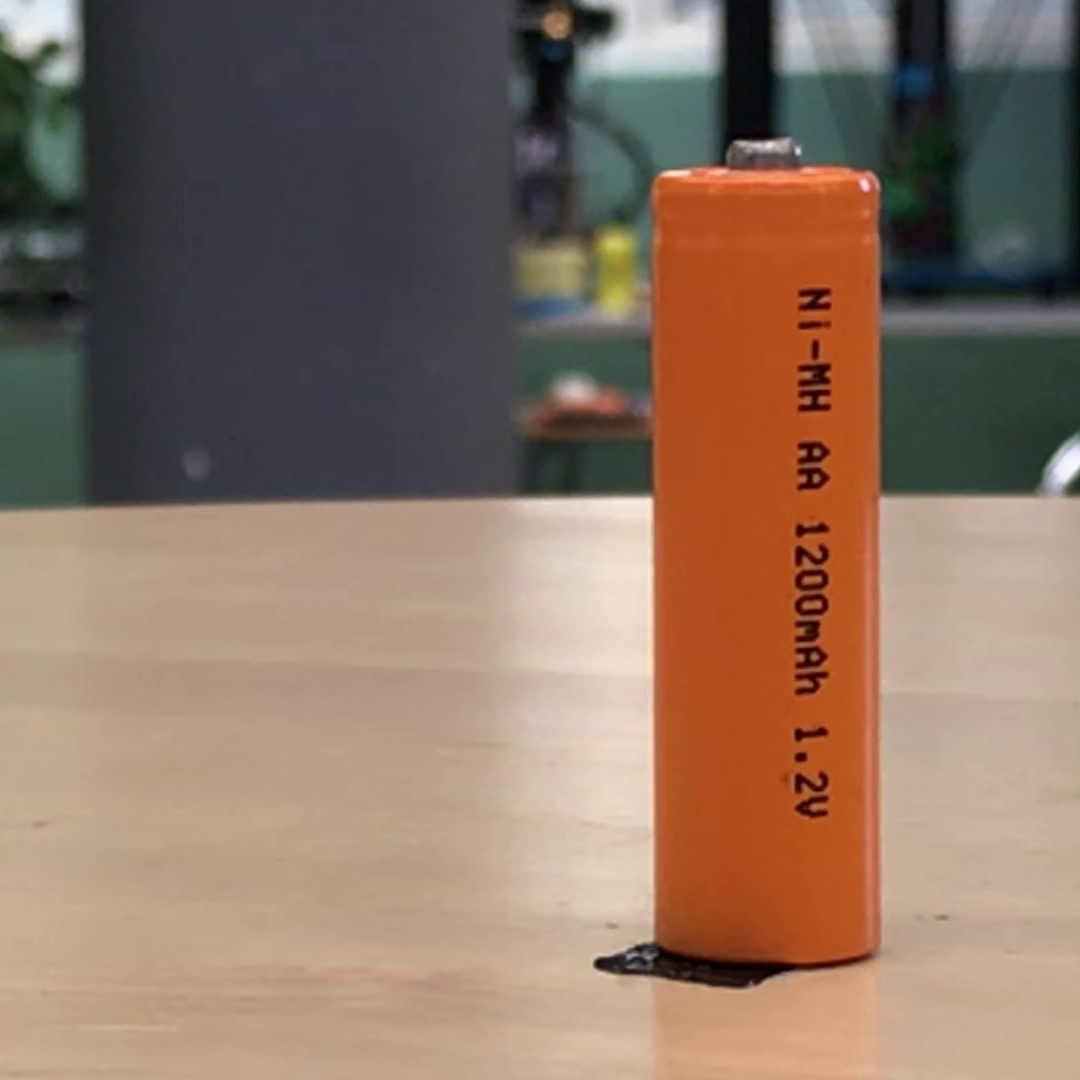keyword: (789, 278, 840, 422)
